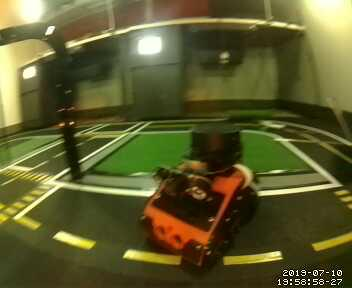pheeno: (139, 121, 263, 272)
